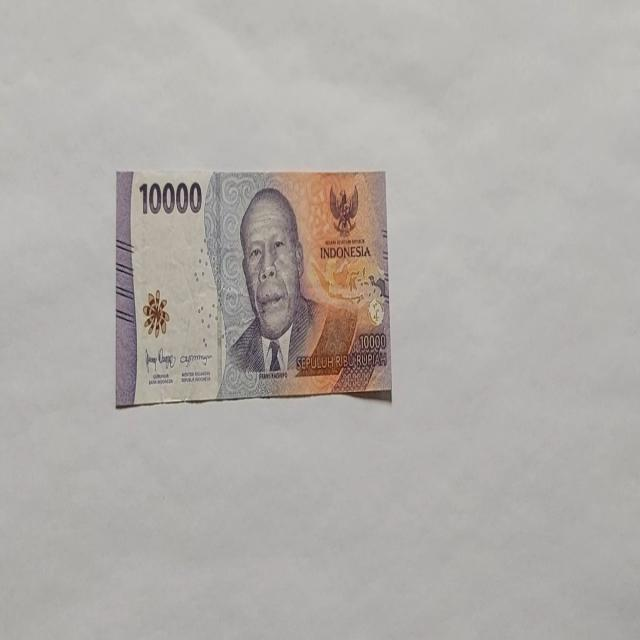sepuluh ribu rupiah: (115, 167, 393, 408), (214, 184, 358, 398)
